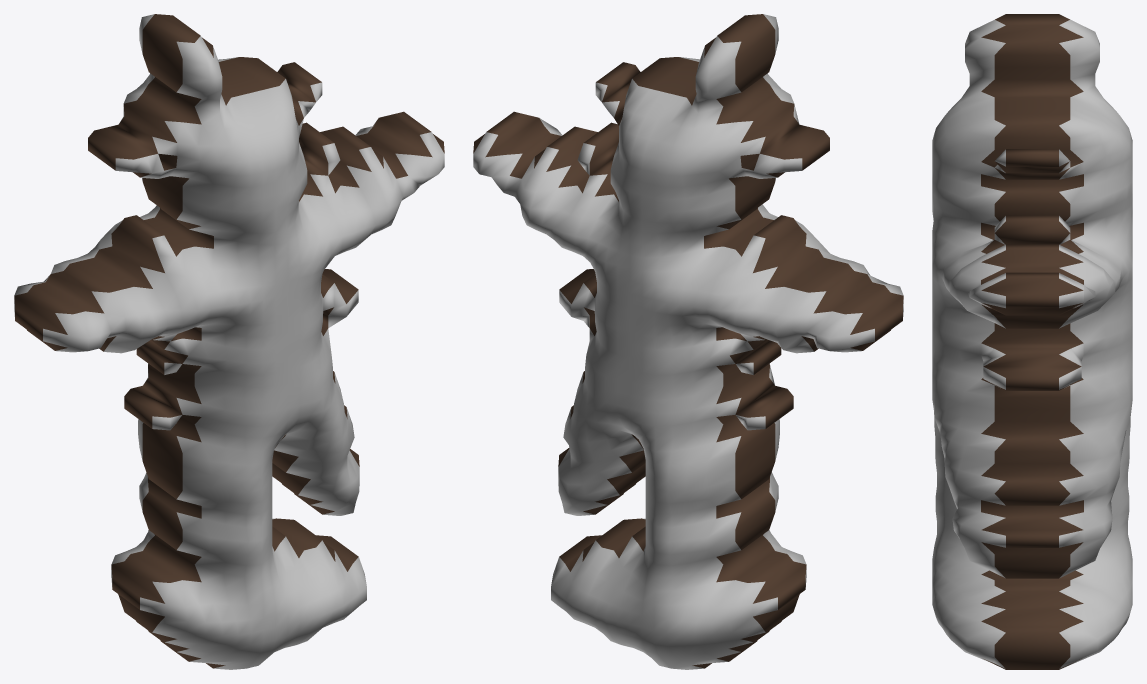
File: poppet.glb
3 renders of one model, left to right at view 1: azimuth 30°, elevation 25°; view 2: azimuth 150°, elevation 25°; view 3: azimuth 270°, elevation 25°, orthographic. The views are drawn at different scales.
Visible parts, largest first — view 1: poppet; view 2: poppet; view 3: poppet.
Boxes of the visible parts, bbox=[...] form: poppet: bbox=[14, 14, 444, 669]; poppet: bbox=[473, 14, 903, 669]; poppet: bbox=[932, 14, 1132, 669].
Size of the model in its own units: 0.1904 by 0.2885 by 0.0864.
